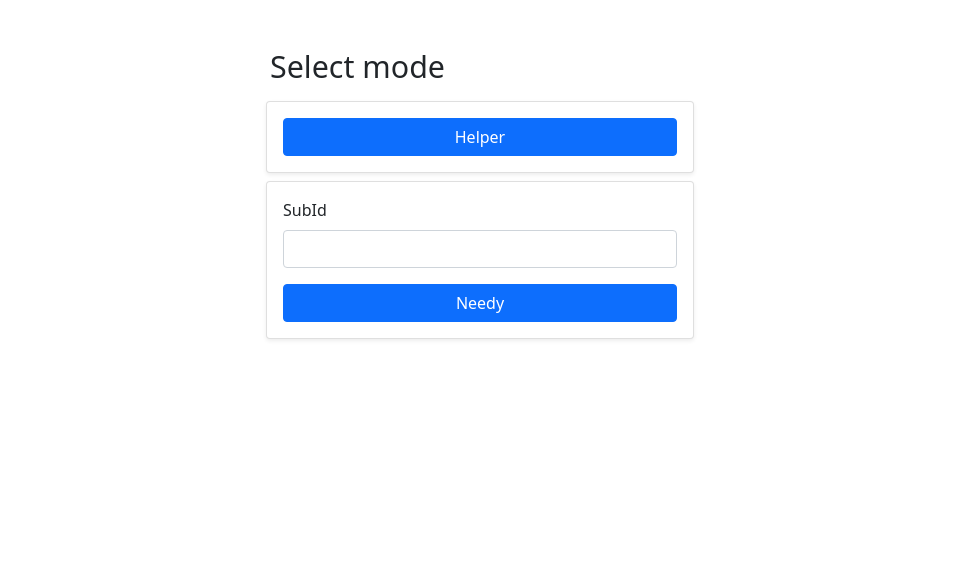
it: Testing App › Should able to click Helper
The width and height of the screenshot is (961, 565).
Step 1. Click the button "Helper" → click(480, 136), box [283,118,677,156]
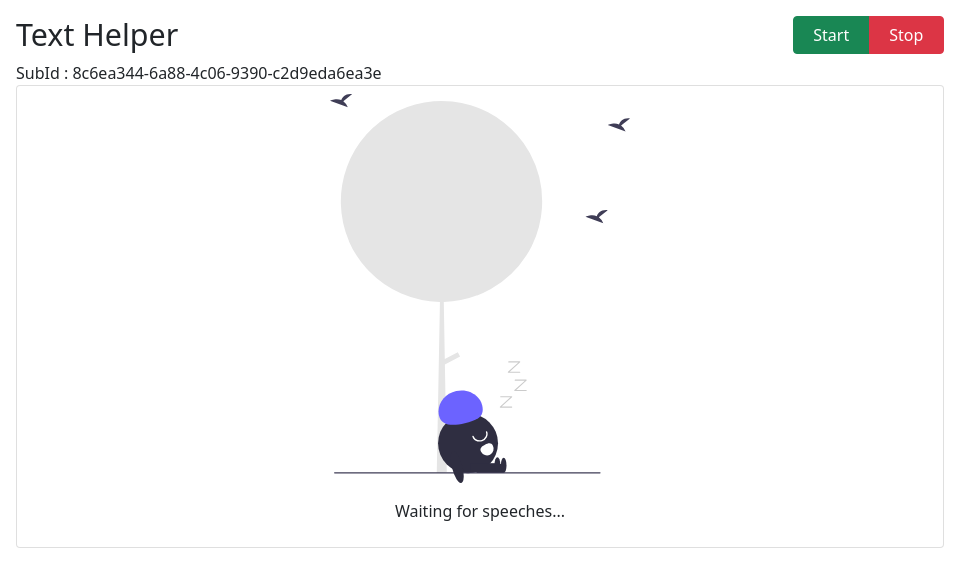
Expected: the text "SubId : 8c6ea344-6a88-4c06-9390-c2d9eda6ea3e" is shown, [16,62,382,84]
